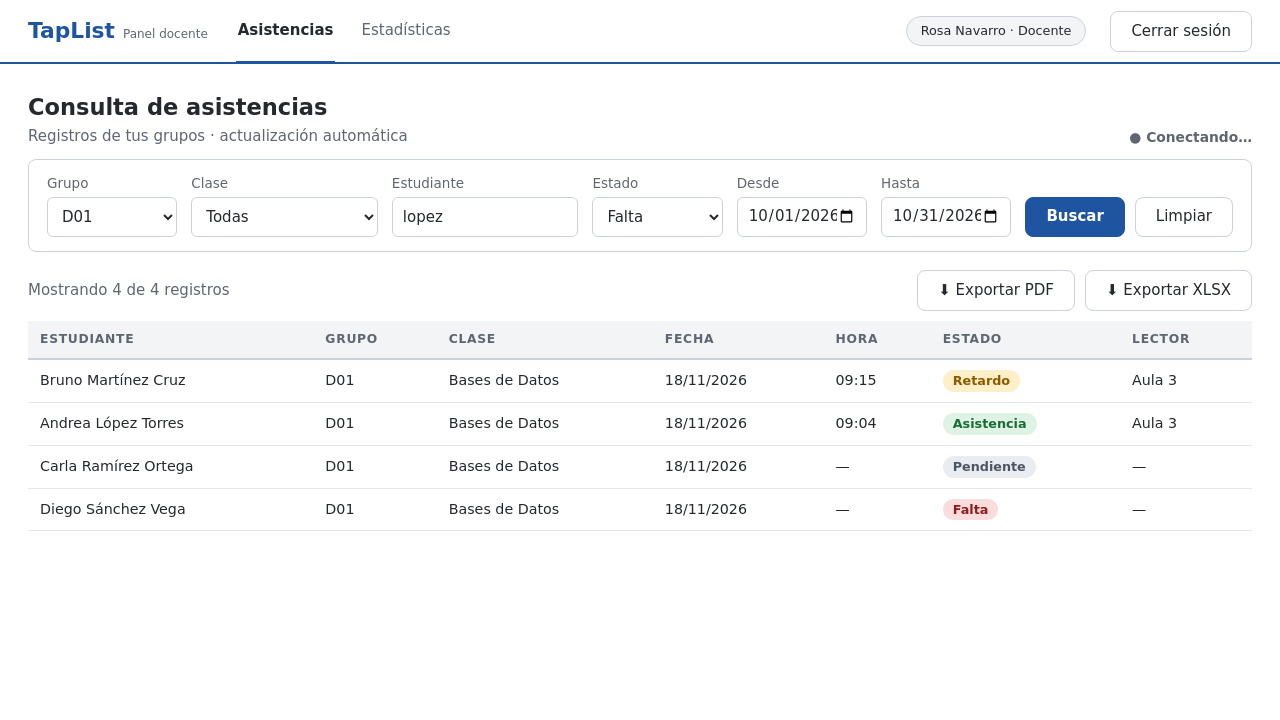
P2 · Consulta de asistencias › «Limpiar» vuelve a la última semana sin filtros
Expected: the text "Mostrando 4 de 4 registros" is shown, [28,280,230,301]
Click the button "Limpiar".
click(1184, 217)  # box [1135,197,1233,237]
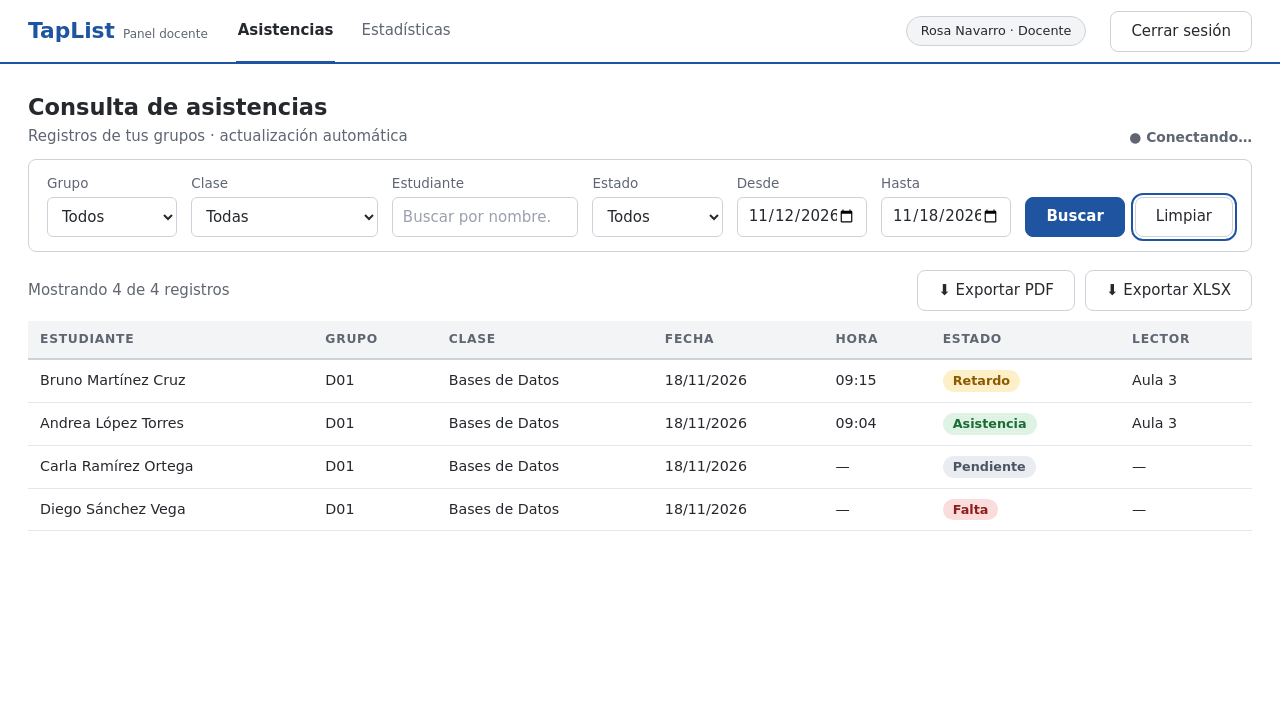
Expected: the search field labelled "Estudiante" is empty, [392,197,578,237]
Expected: the dropdown labelled "Estado" shows "Todos", [592,197,723,237]
